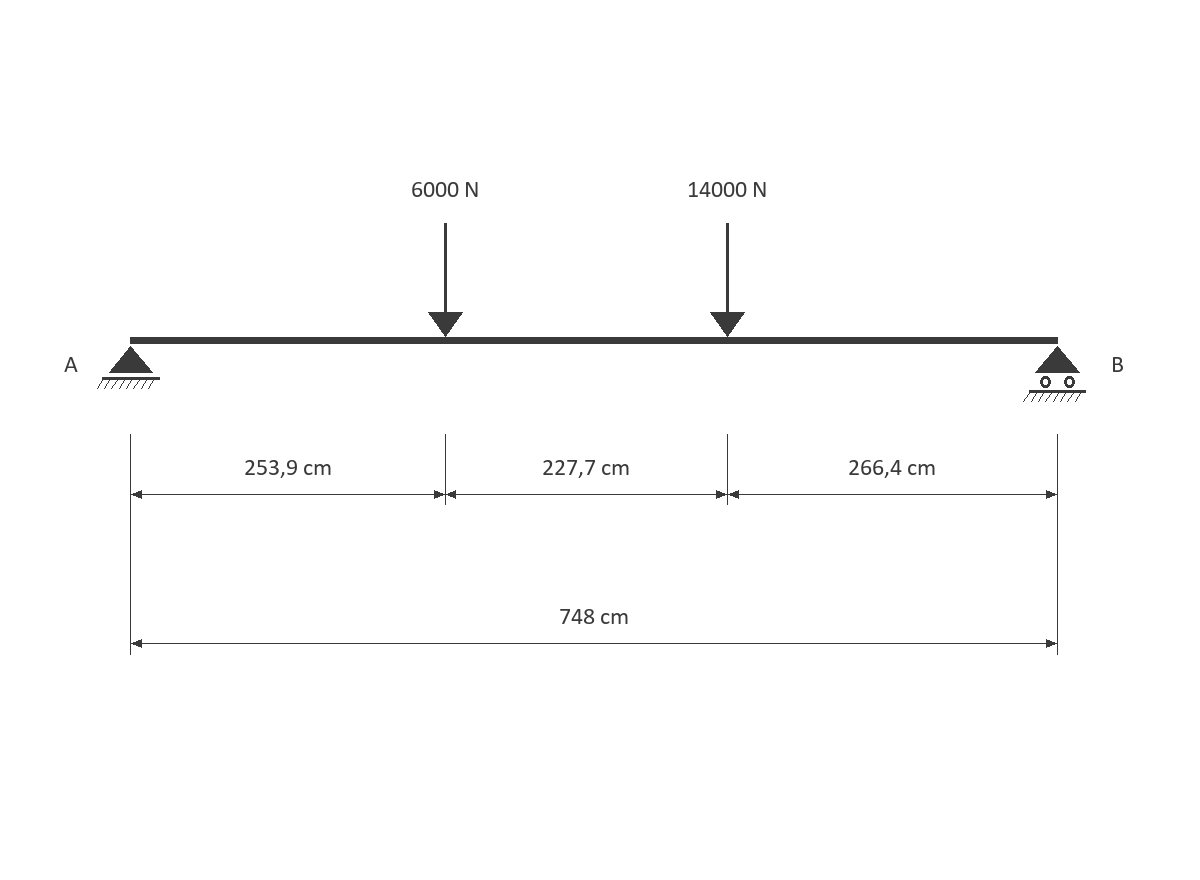pin_support: (97, 346, 160, 389)
point_load: (428, 223, 463, 337), (710, 223, 745, 337)
roller_support: (1023, 346, 1086, 402)
